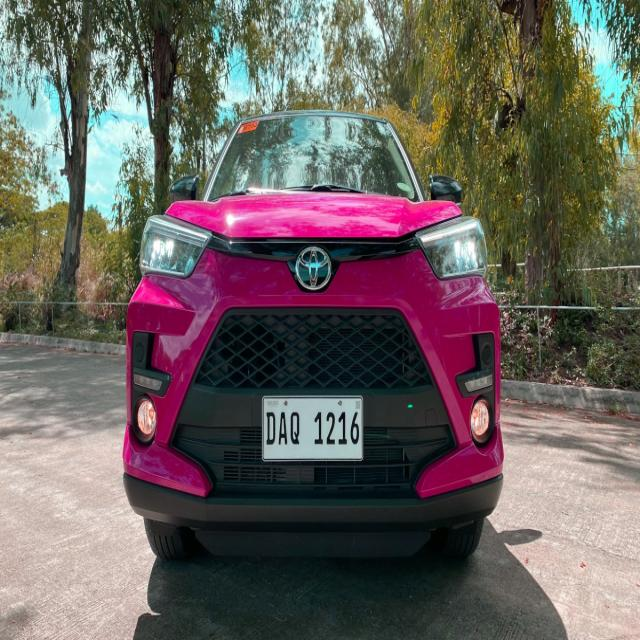Text: (263, 396, 364, 463)
